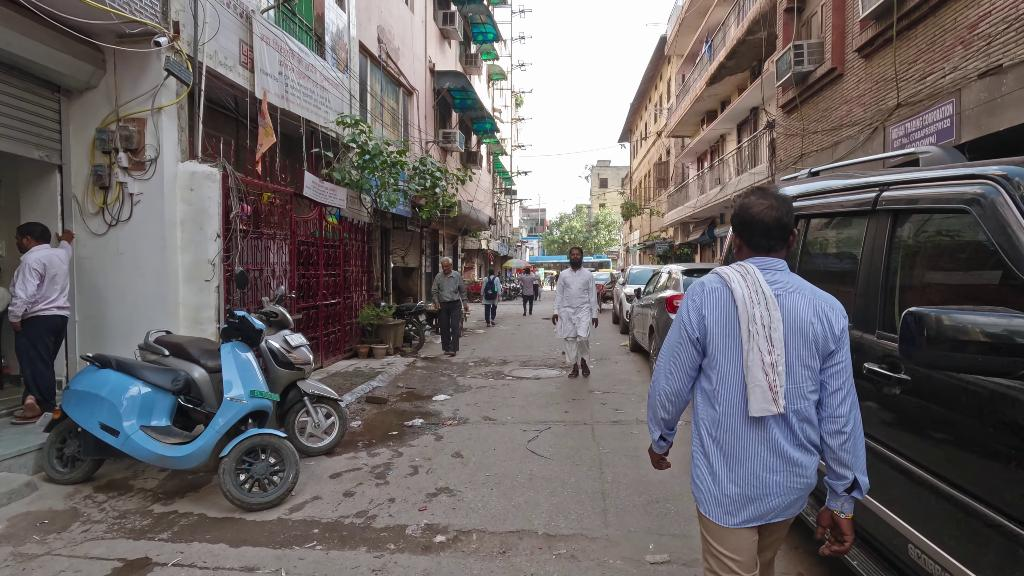garbage: (403, 415, 426, 433), (425, 391, 459, 401)
